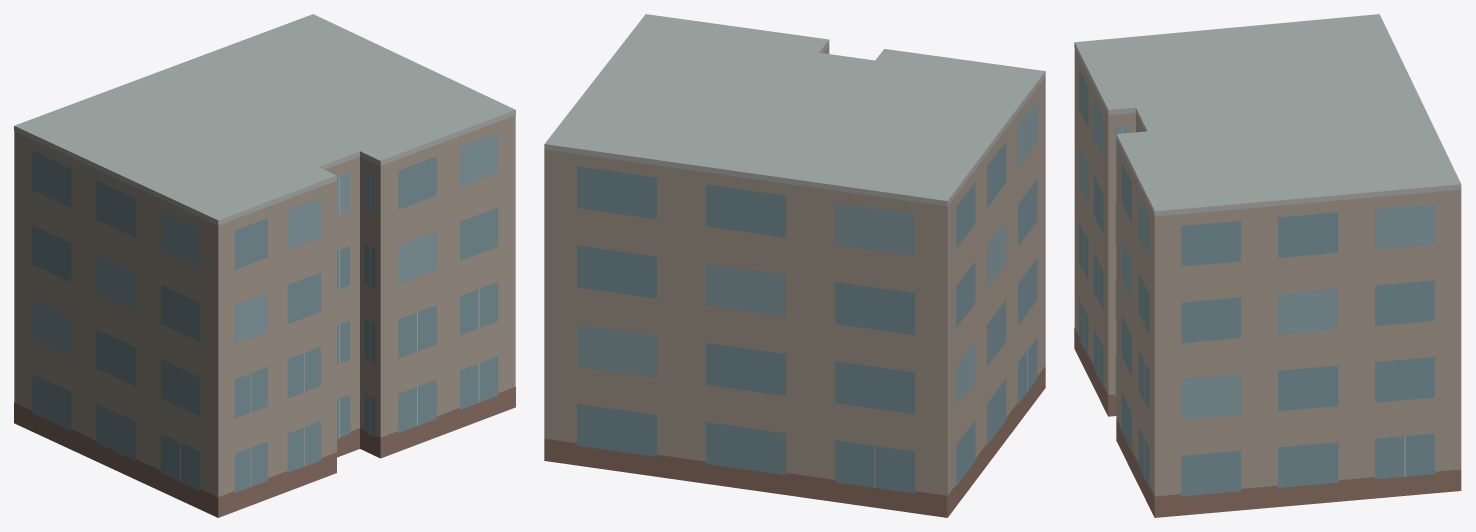
Rendered from survey-upis-32968916.glb.
The picture shows the model from 3 angles, left to right: view 1: azimuth 30°, elevation 25°; view 2: azimuth 150°, elevation 25°; view 3: azimuth 270°, elevation 25°; orthographic projection. The views are drawn at different scales.
Parts seen in each view (by area): view 1: survey-upis-32968916.tmp; view 2: survey-upis-32968916.tmp; view 3: survey-upis-32968916.tmp.
Boxes of the visible parts, x1,y1,x2,y2 form: survey-upis-32968916.tmp: (14, 14, 515, 517); survey-upis-32968916.tmp: (544, 14, 1045, 517); survey-upis-32968916.tmp: (1074, 14, 1461, 517).
Size of the model in its own units: 19.76 by 14.3 by 16.37.
